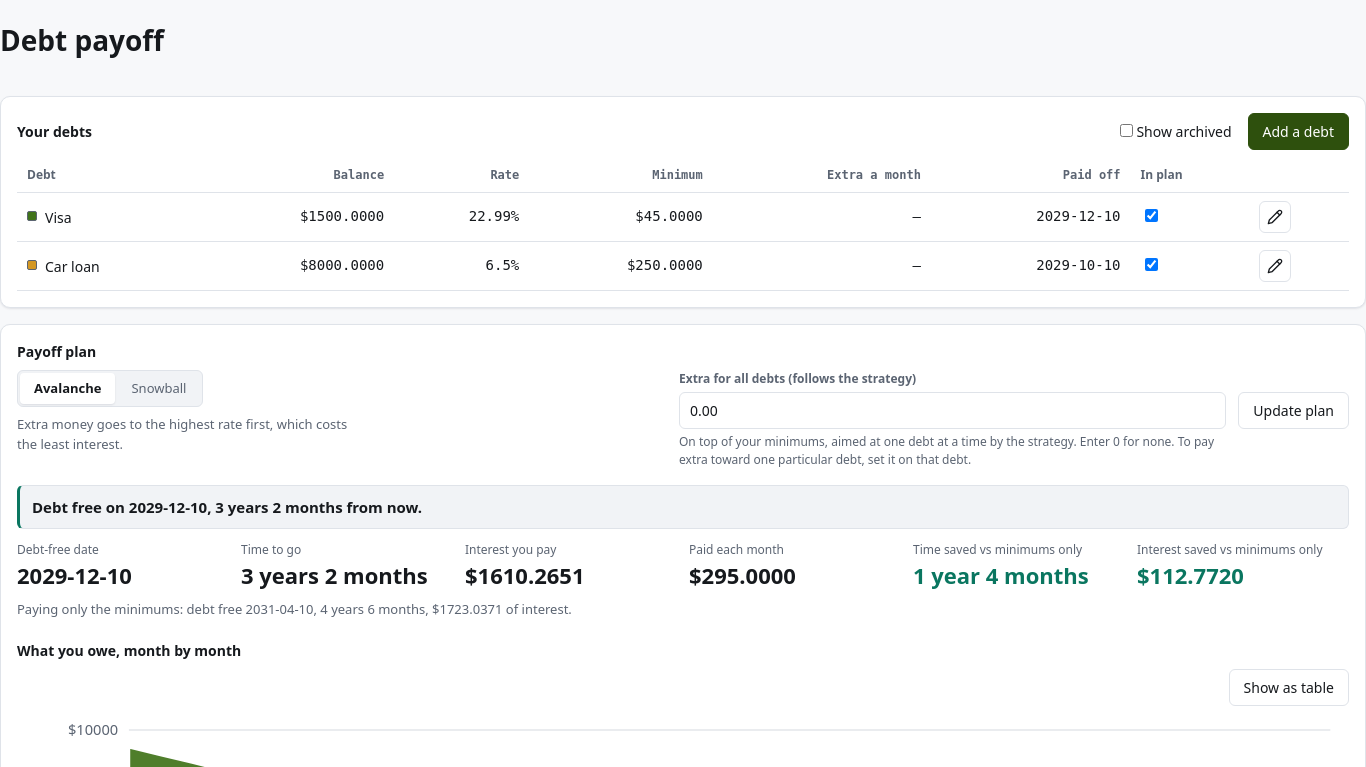
Test: extra paid toward one debt › saves an amount, shows it in the list and in the header, and moves the date later than the same money pooled
Check: the text "Debt free on 2029-12-10, 3 years 2 months from now." is shown, box [17,484,1349,529]
Check: the text "earmarked" is not shown
Click the button named "Edit Visa" at (1275, 216), box [1259,200,1291,232]
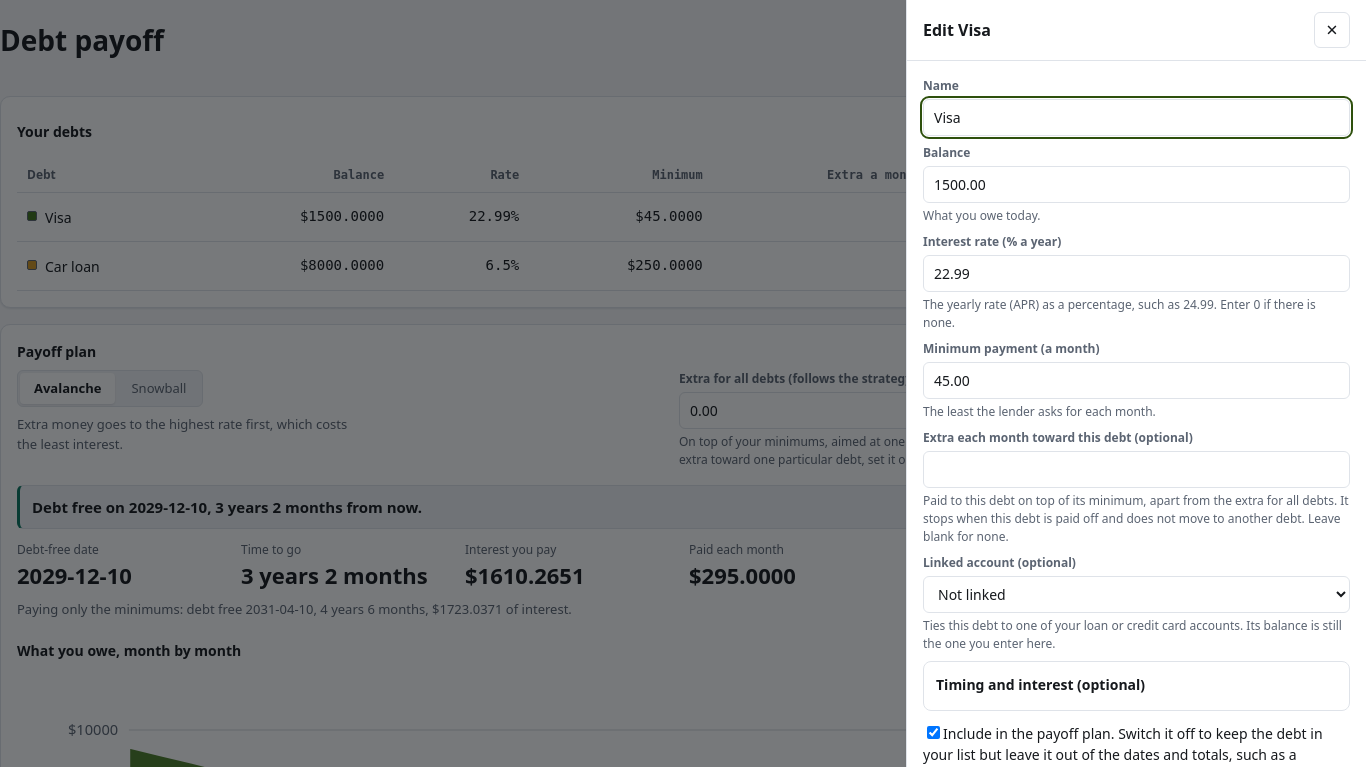
Type "100" into the field labelled "Extra each month toward this debt (optional)" at (1136, 470), box [923,451,1350,488]
(page scrolled)
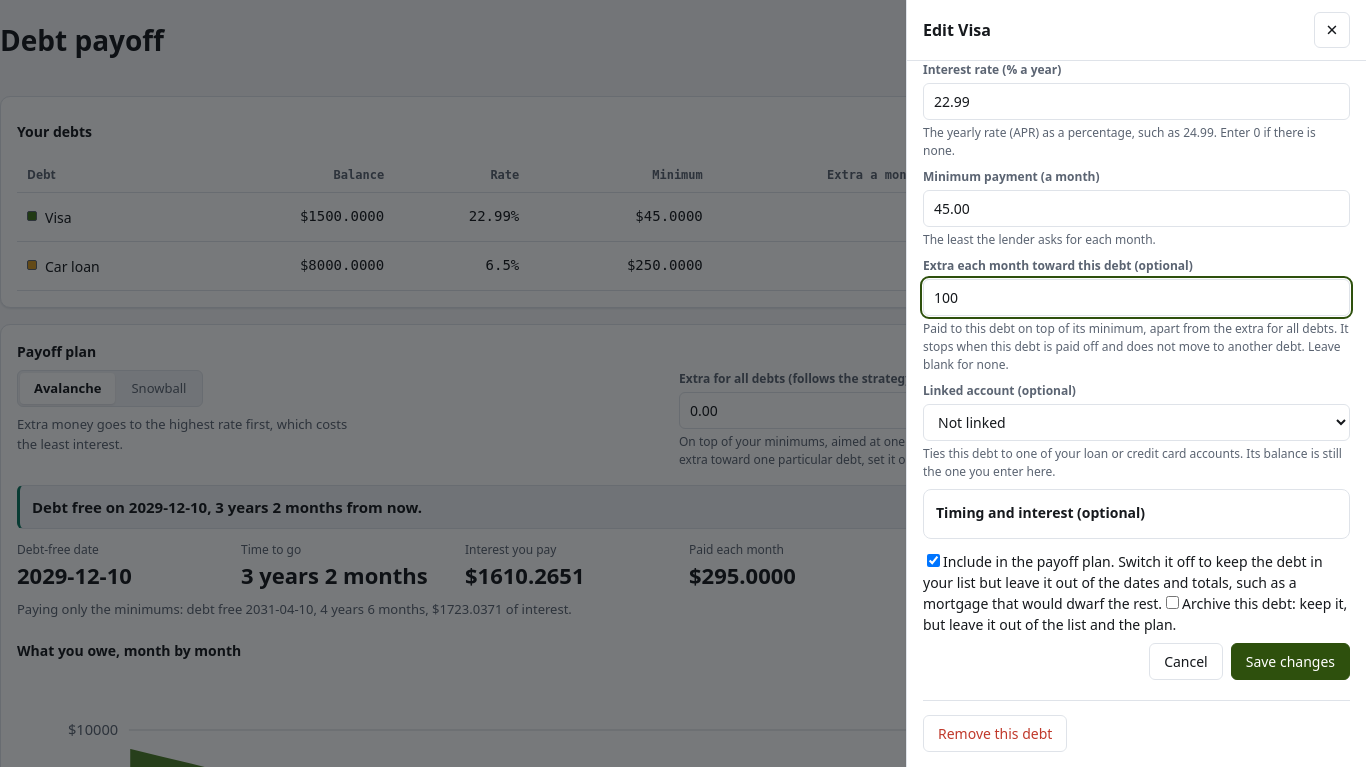
Click the button "Save changes" at (1290, 662), box [1231,643,1350,680]
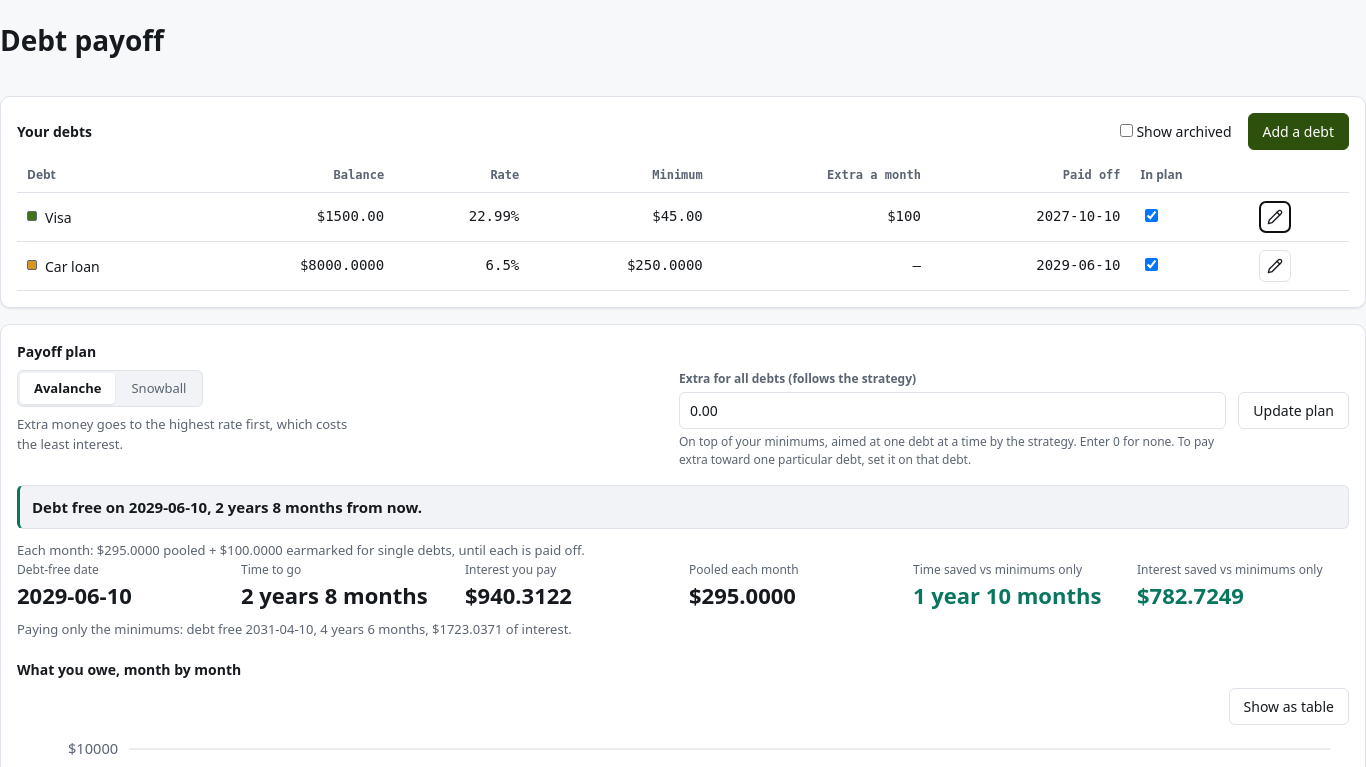
Check: the dialog is gone
Check: the text "Each month: $295.0000 pooled + $100.0000 earmarked for single debts" is shown, box [17,541,585,559]
Check: the text "$100" is shown, box [713,192,931,241]
